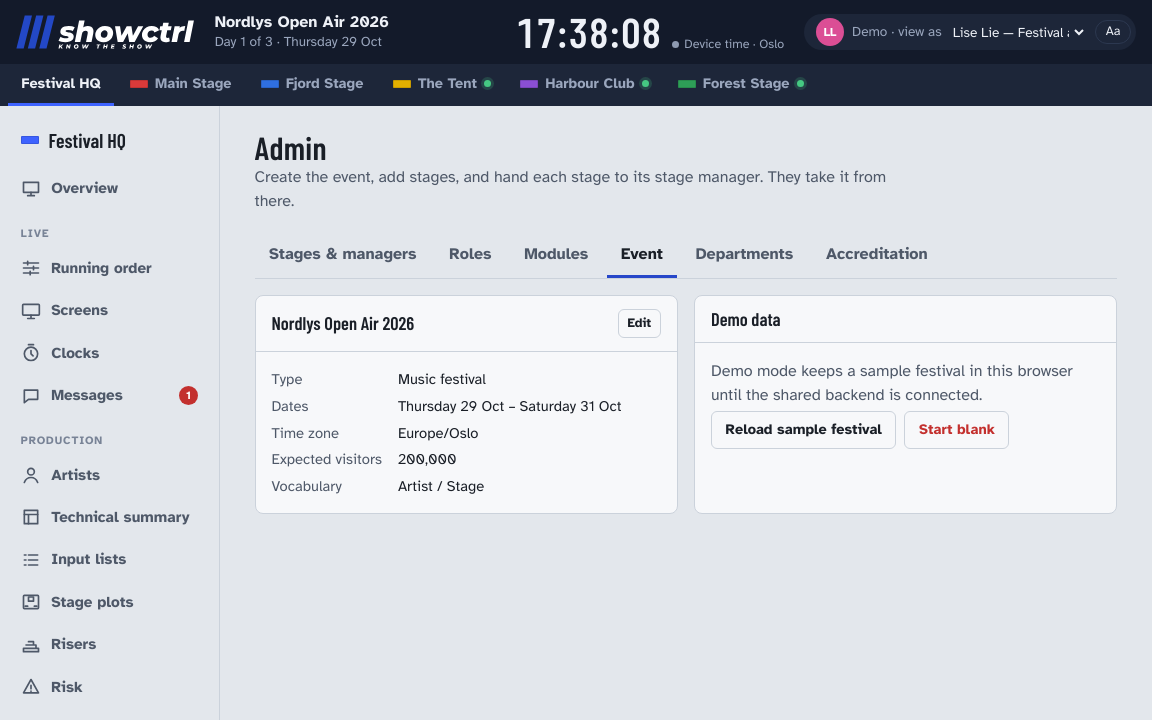
admin › starts a blank event with only the admin
The width and height of the screenshot is (1152, 720).
Click the button "Start blank" at x=957, y=430, box [904,411,1009,449]
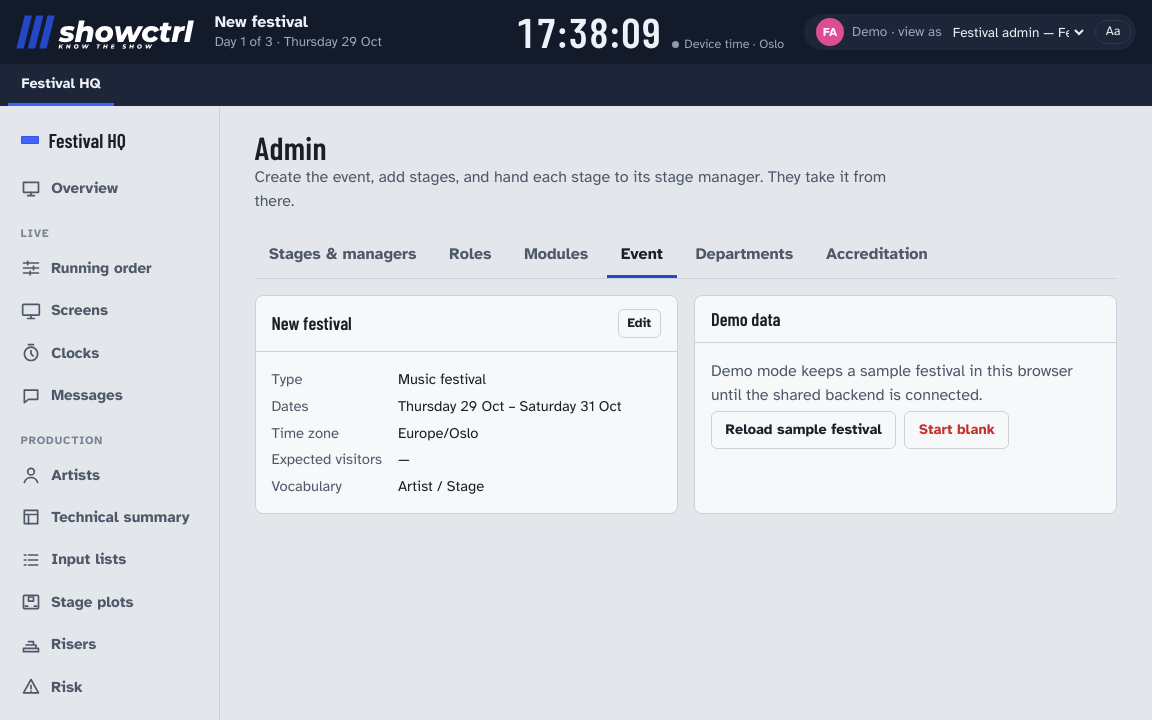
Check: the text "New festival" is shown, box [215,12,308,32]
